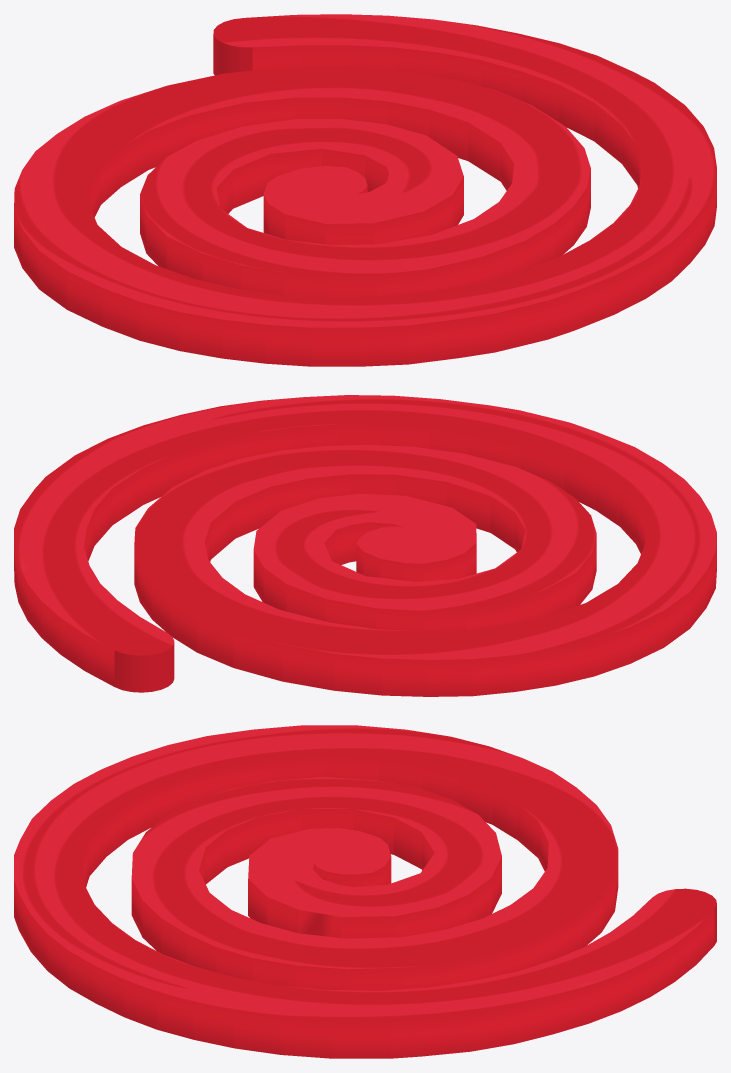
File: Ketchup_Slice_Ketchup_0.glb
The picture shows the model from 3 angles, top to bottom: view 1: azimuth 30°, elevation 25°; view 2: azimuth 150°, elevation 25°; view 3: azimuth 270°, elevation 25°; orthographic projection. The views are drawn at different scales.
Parts seen in each view (by area): view 1: Ketchup_Slice_Ketchup_0; view 2: Ketchup_Slice_Ketchup_0; view 3: Ketchup_Slice_Ketchup_0.
Part boxes in pixels (<box>): Ketchup_Slice_Ketchup_0: <box>14,14,716,366</box>; Ketchup_Slice_Ketchup_0: <box>14,395,716,696</box>; Ketchup_Slice_Ketchup_0: <box>14,725,716,1058</box>.
Bounding box in the file's own units: 0.17 × 0.01 × 0.1706.
1 material, 1 textured.
